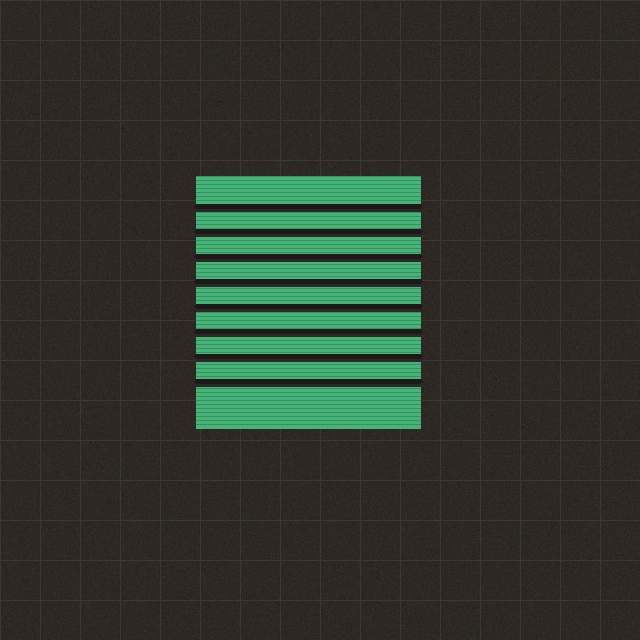under_extrusion: (191, 196, 425, 408)
